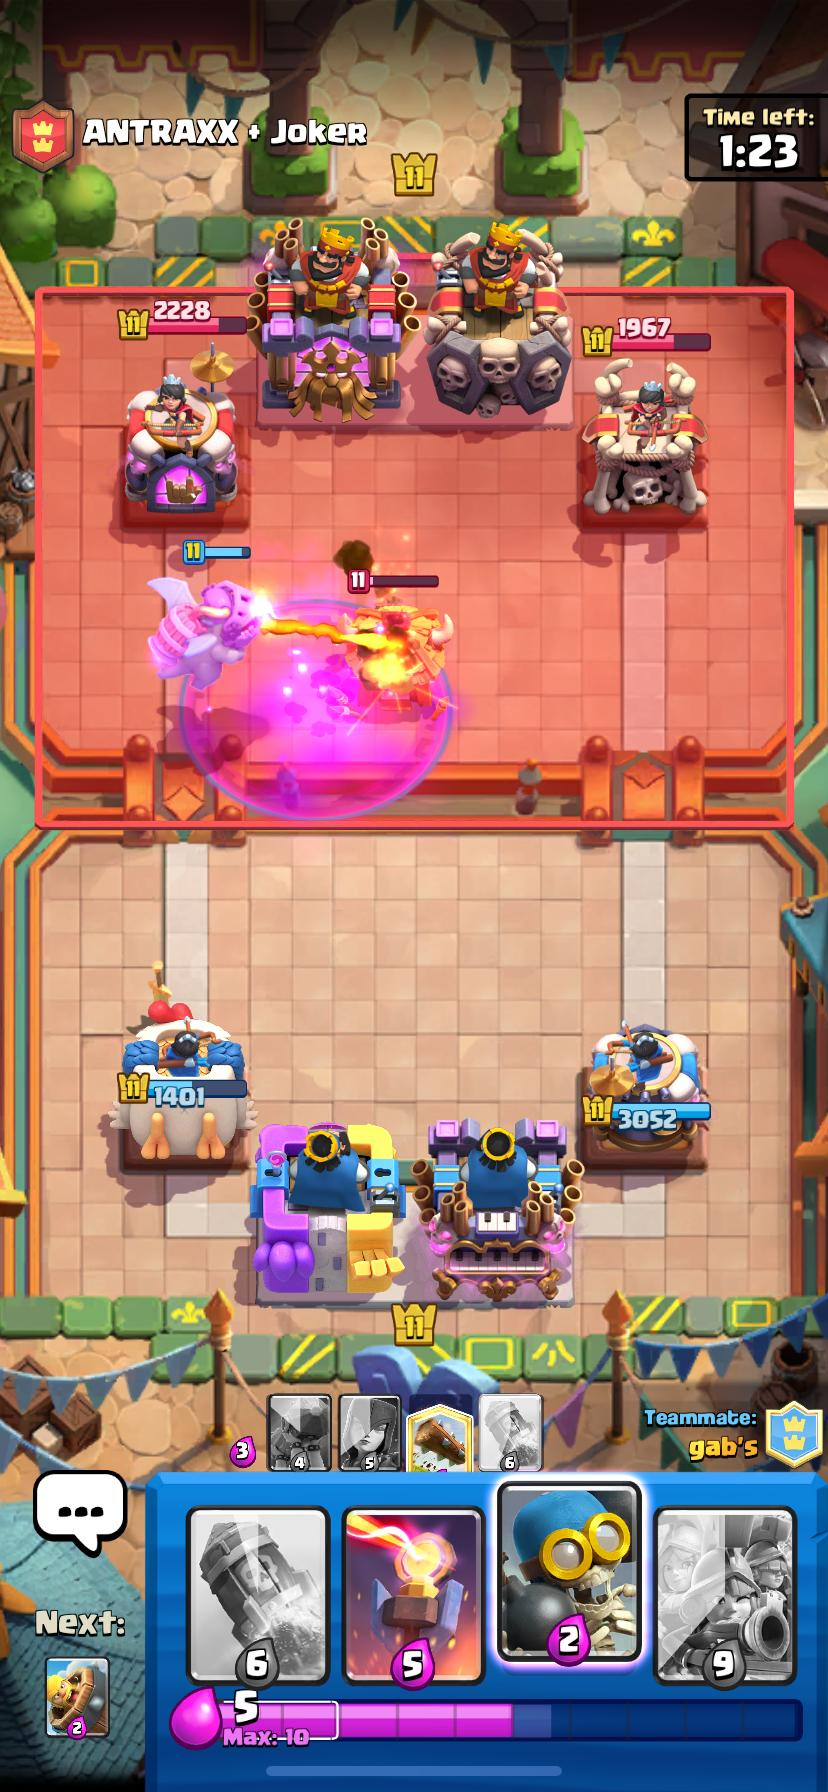EGoblinHut: (344, 599, 452, 717)
EKingTower: (247, 219, 417, 421), (423, 224, 570, 418)
EnemyPrincessTower: (581, 359, 707, 514), (125, 373, 237, 514)
OInfernoDrag: (149, 578, 266, 690)
OwnKingTower: (412, 1121, 580, 1304), (250, 1123, 403, 1304)
OwnPrincessTower: (109, 1016, 255, 1161), (580, 1023, 710, 1168)
